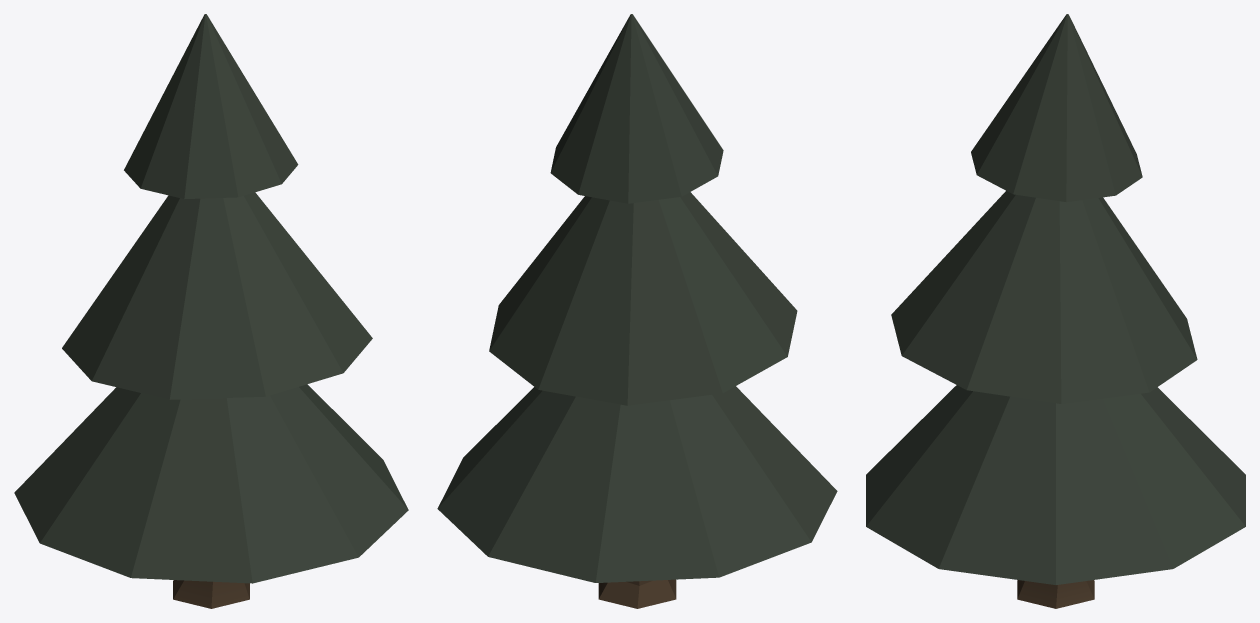
Rendered from Low poly tree 3.fbx.
3 views of the same model, side by side, from view 1: azimuth 30°, elevation 25°; view 2: azimuth 150°, elevation 25°; view 3: azimuth 270°, elevation 25° (orthographic).
Visible parts, largest first — view 1: polySurface4508; view 2: polySurface4508; view 3: polySurface4508.
Boxes of the visible parts, x1,y1,x2,y2 form: polySurface4508: [14, 14, 408, 608]; polySurface4508: [437, 14, 837, 608]; polySurface4508: [866, 14, 1245, 608].
Size of the model in its own units: 14.42 by 22.93 by 13.72.
